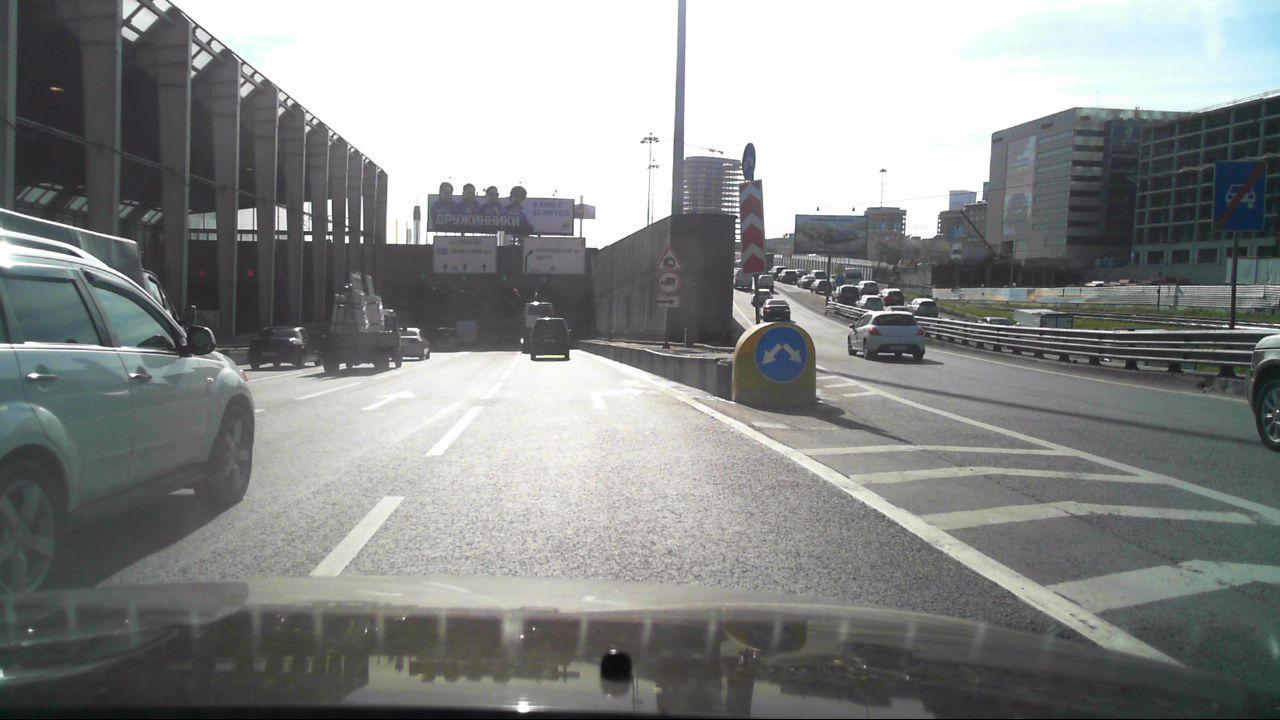1_31: (653, 247, 683, 272)
3_4: (657, 273, 680, 293)
4_2_3: (754, 325, 809, 382), (741, 142, 758, 179)
5_4: (1216, 158, 1266, 231)
6_9_1: (522, 233, 587, 275), (434, 233, 497, 275)
8_22_3: (737, 178, 768, 273)
8_3_1: (654, 294, 680, 308)
